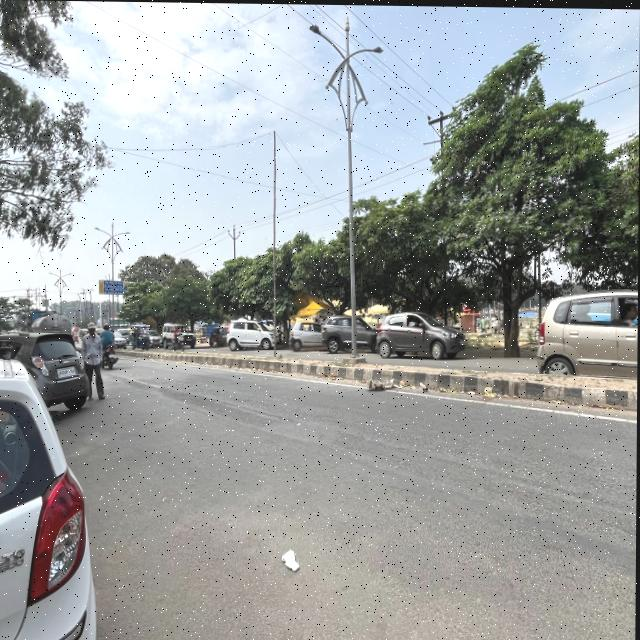bike: (103, 343, 119, 368), (171, 331, 186, 351)
car: (0, 350, 98, 640), (7, 322, 106, 415), (376, 308, 468, 359), (320, 312, 377, 354), (227, 317, 279, 350), (162, 319, 196, 351), (289, 320, 323, 350), (210, 326, 228, 345), (116, 329, 128, 349)
